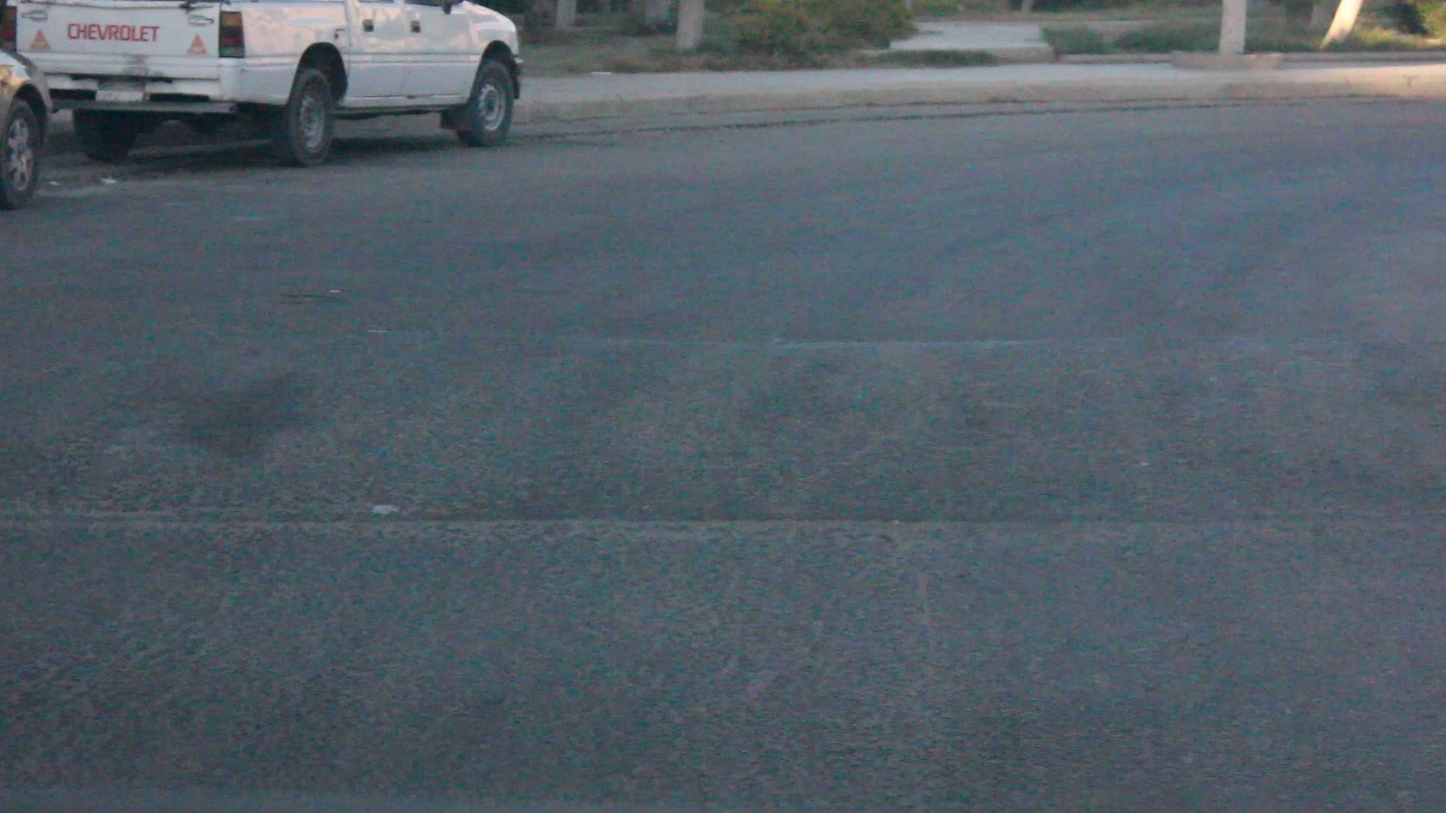Bump: (0, 303, 1446, 521)
